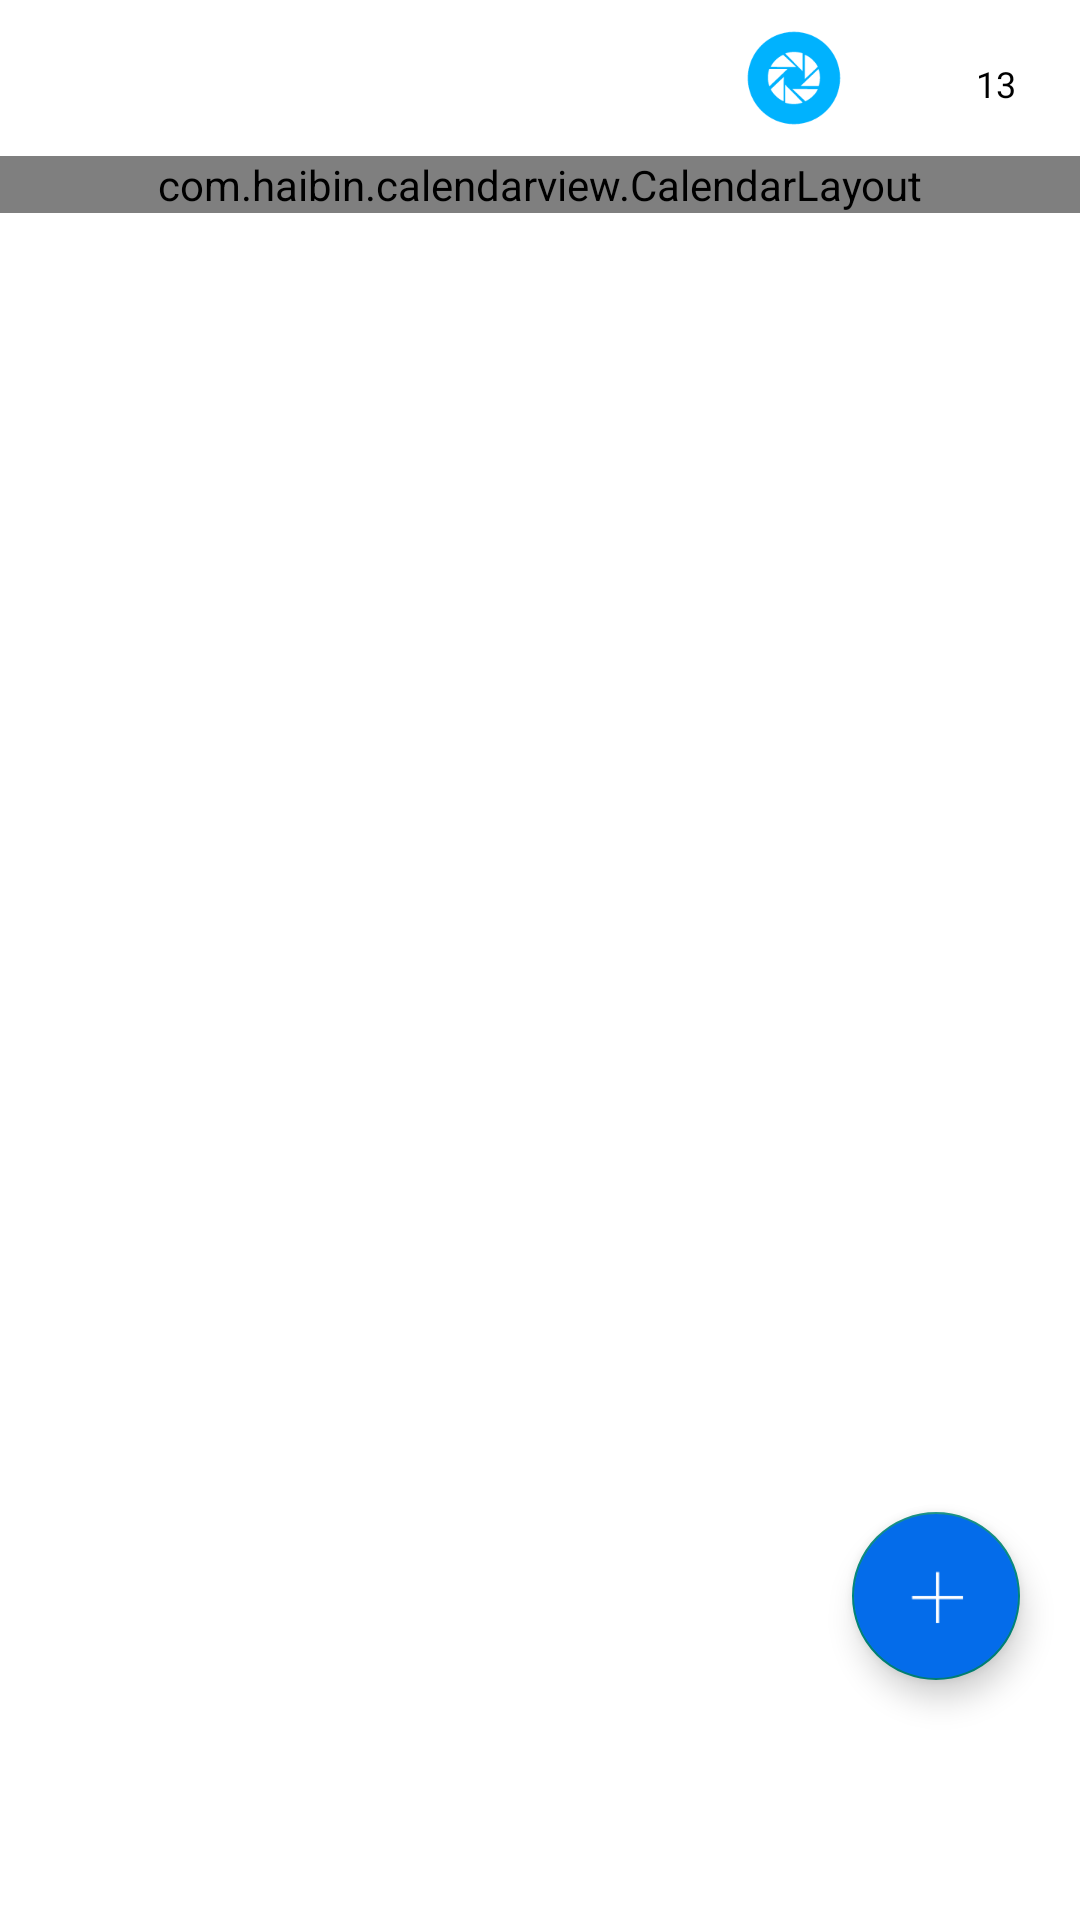

Named icons in this screenshot (1080*1920) and their centers, (x,y):
add: (936,1596)
